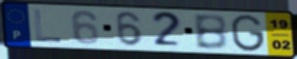2: (149, 11, 187, 51)
6: (114, 10, 145, 48), (69, 9, 100, 46)
B: (191, 13, 230, 52)
G: (231, 13, 266, 53)
L: (32, 8, 64, 44)
